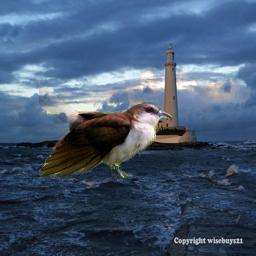Cuckoo: (39, 51, 174, 183)
